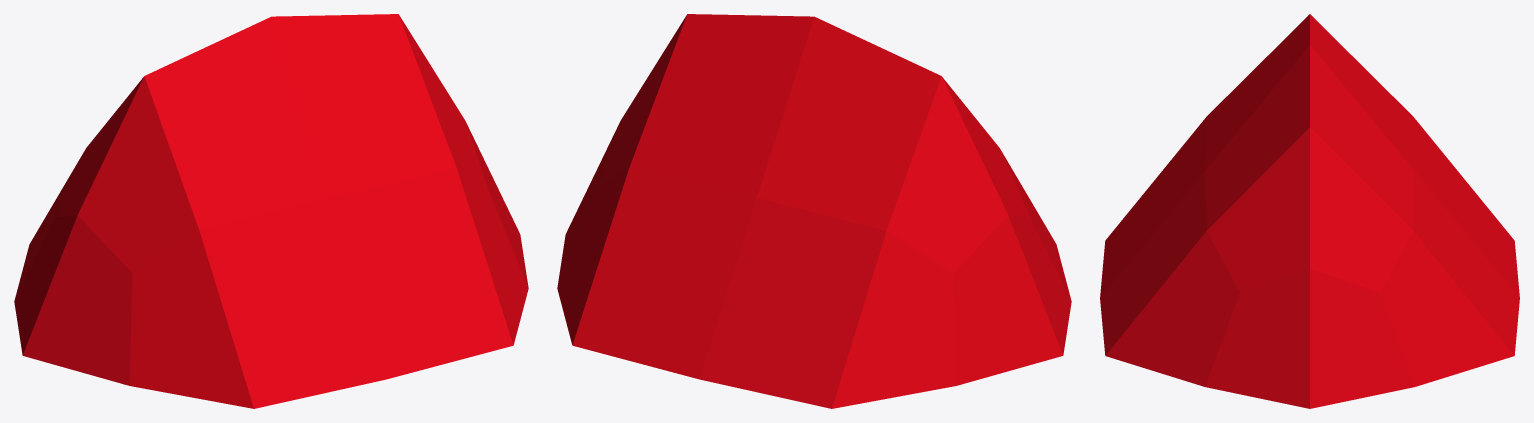
File: Tent.fbx
3 views of the same model, side by side, from view 1: azimuth 30°, elevation 25°; view 2: azimuth 150°, elevation 25°; view 3: azimuth 270°, elevation 25° (orthographic). The views are drawn at different scales.
Visible parts, largest first — view 1: Meeple_flamme; view 2: Meeple_flamme; view 3: Meeple_flamme.
Boxes of the visible parts, bbox=[...] form: Meeple_flamme: bbox=[14, 14, 528, 408]; Meeple_flamme: bbox=[557, 14, 1071, 408]; Meeple_flamme: bbox=[1100, 14, 1519, 408].
Size of the model in its own units: 374 by 200 by 300.
